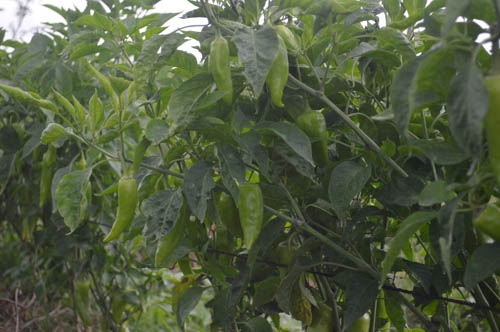ChiliPepper: (105, 177, 137, 244), (236, 180, 263, 252), (263, 36, 287, 109), (210, 39, 236, 104), (297, 113, 329, 161)
